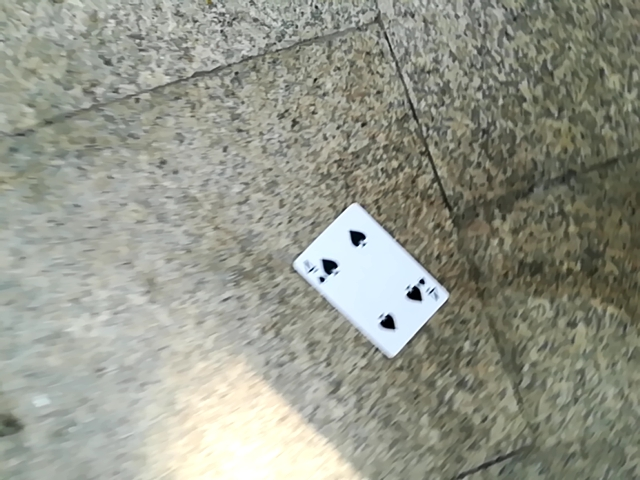ht 4: (314, 260, 531, 479)
